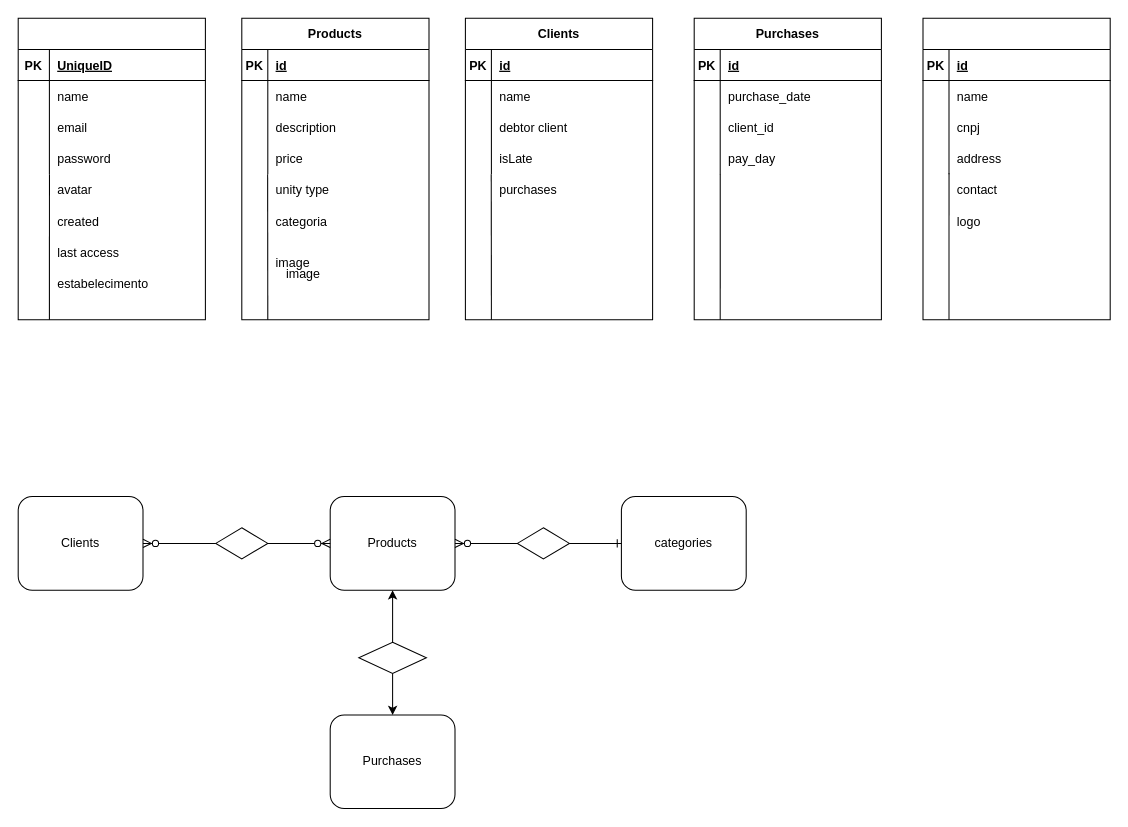
Some shapes in this 1128 by 827 pixel diagram are drawn without their labels. Each missing label, with the box of its shape:
estabisment: (922, 17, 1110, 320)
Users: (17, 17, 205, 320)
